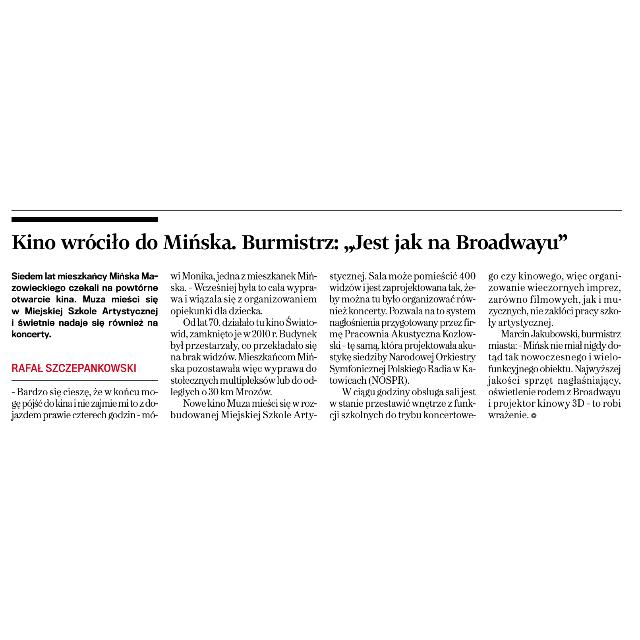author: (9, 356, 142, 376)
body: (166, 265, 320, 423), (325, 268, 479, 422), (486, 267, 626, 423), (7, 381, 163, 425)
lead: (8, 267, 162, 341)
title: (8, 226, 574, 258)
